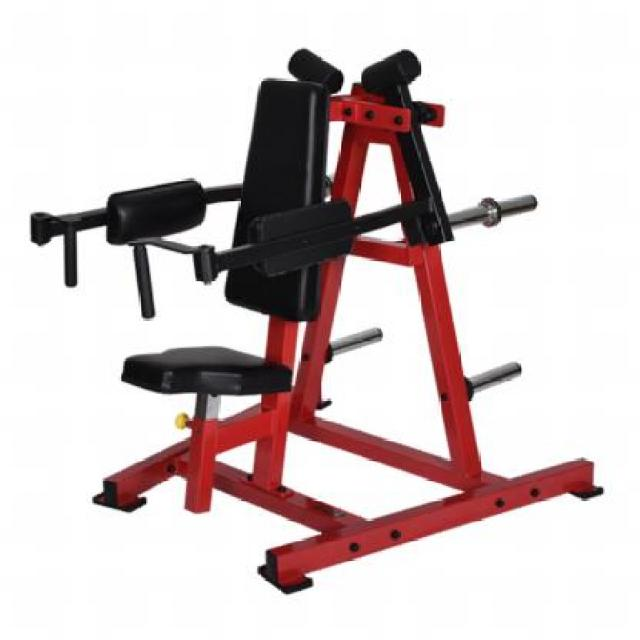lateral raises machine: (29, 51, 603, 598)
